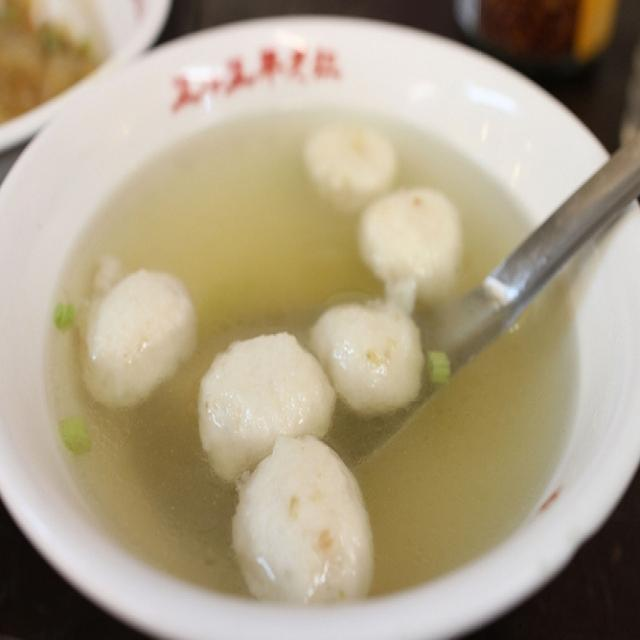熟制海鲜: (23, 42, 608, 610)
